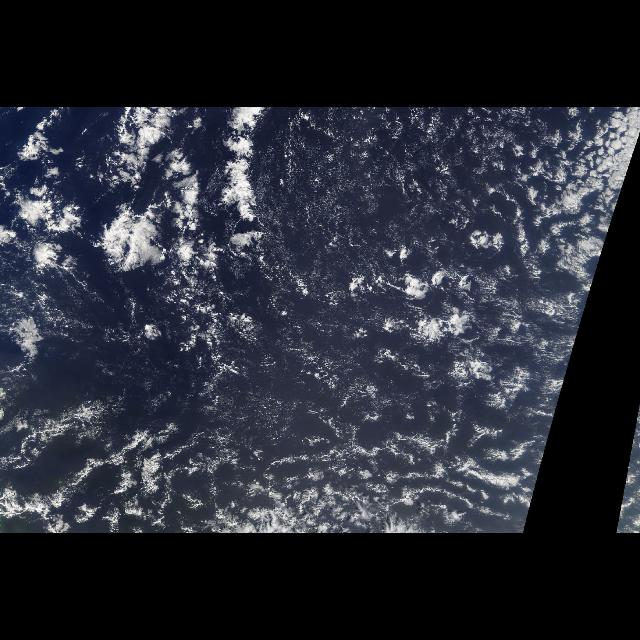Fish: (8, 108, 386, 312)
Flower: (336, 222, 596, 452), (9, 120, 199, 314)
Gravel: (312, 263, 598, 422)
Sugar: (266, 108, 636, 266), (88, 320, 392, 482)
